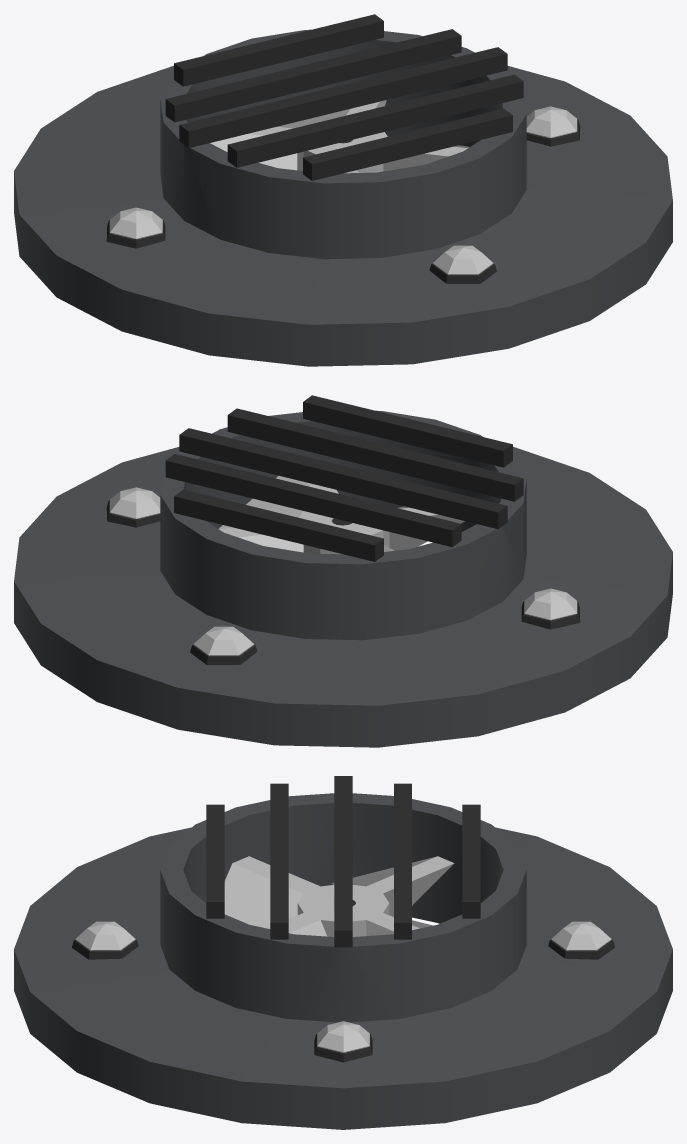
3 renders of one model, top to bottom at view 1: azimuth 30°, elevation 25°; view 2: azimuth 150°, elevation 25°; view 3: azimuth 270°, elevation 25°, orthographic.
Parts seen in each view (by area): view 1: Attic_Fan1; view 2: Attic_Fan1; view 3: Attic_Fan1.
Part boxes in pixels (x1,y1,x2,y2): Attic_Fan1: (14,14,672,366); Attic_Fan1: (14,395,672,747); Attic_Fan1: (14,776,672,1129).
Size of the model in its own units: 720 by 166 by 720.
Materials: 1 (1 with a texture image).
